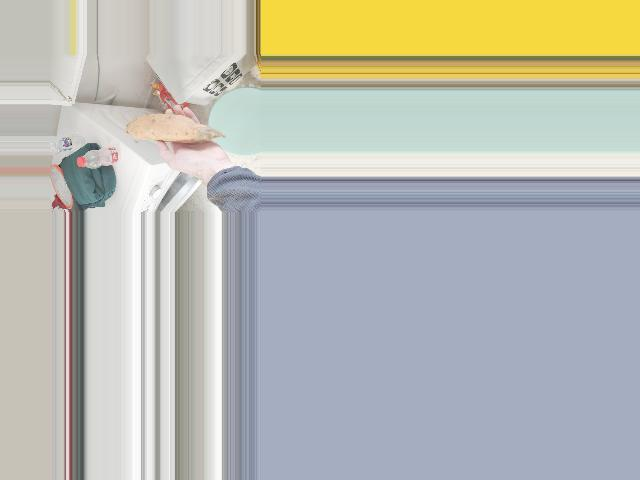sweet_potato: (125, 114, 221, 144)
